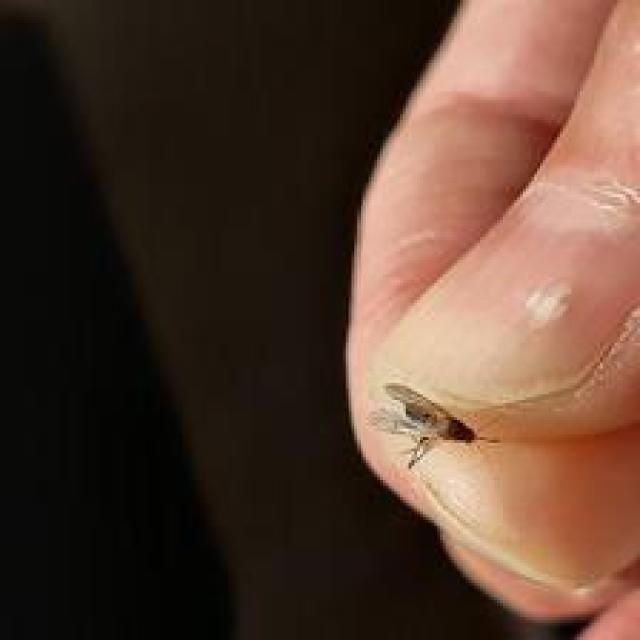Culex: (366, 380, 500, 471)
